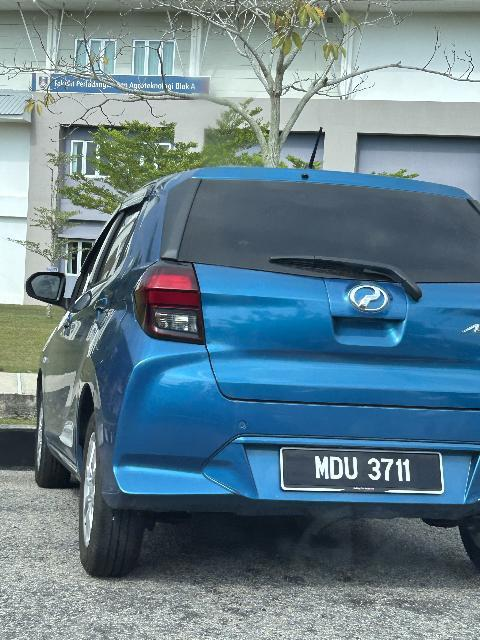License_Plate: (279, 445, 448, 495)
MDU3711: (279, 445, 448, 495)
car: (25, 149, 480, 575)
